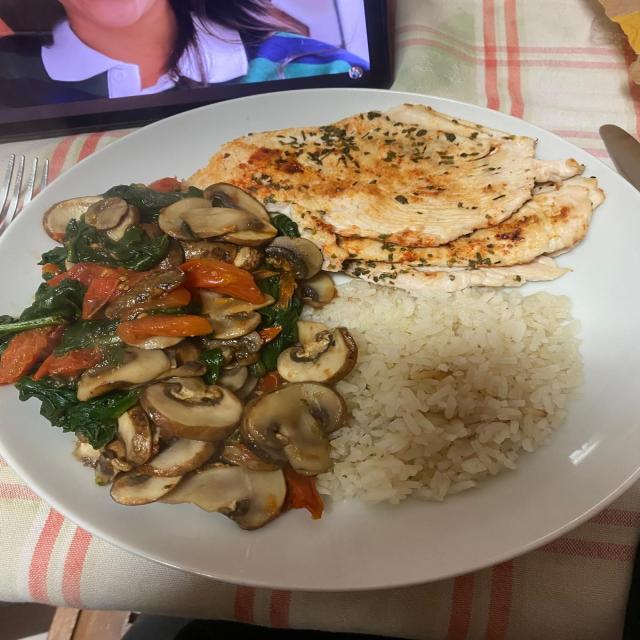chicken steak: (183, 104, 605, 292)
plate: (0, 90, 639, 590)
rice: (303, 281, 582, 504)
vegetables: (0, 178, 356, 529)
